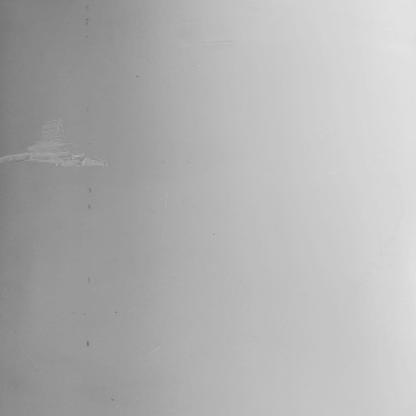sunshang: (2, 121, 106, 167)
